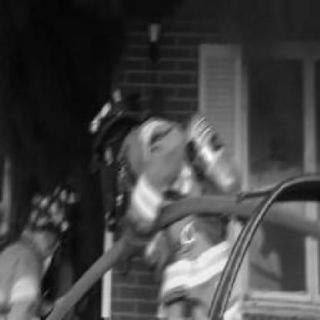other: (33, 178, 66, 254)
